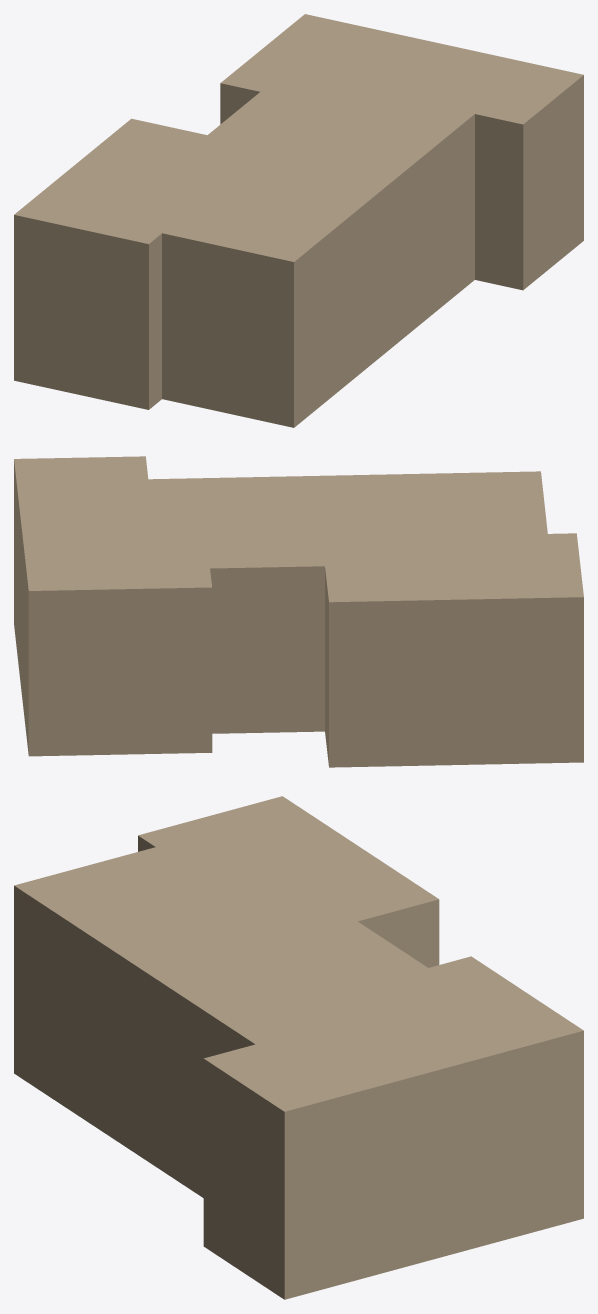
Rendered from bld_99028111.dae.
3 renders of one model, top to bottom at view 1: azimuth 30°, elevation 25°; view 2: azimuth 150°, elevation 25°; view 3: azimuth 270°, elevation 25°, orthographic. The views are drawn at different scales.
Parts seen in each view (by area): view 1: bld_99028111; view 2: bld_99028111; view 3: bld_99028111.
Boxes of the visible parts, left/top/right/bottom form: bld_99028111: left=14, top=14, right=583, bottom=427; bld_99028111: left=14, top=456, right=583, bottom=767; bld_99028111: left=14, top=796, right=583, bottom=1299.
Size of the model in its own units: 28.81 by 21.98 by 8.
